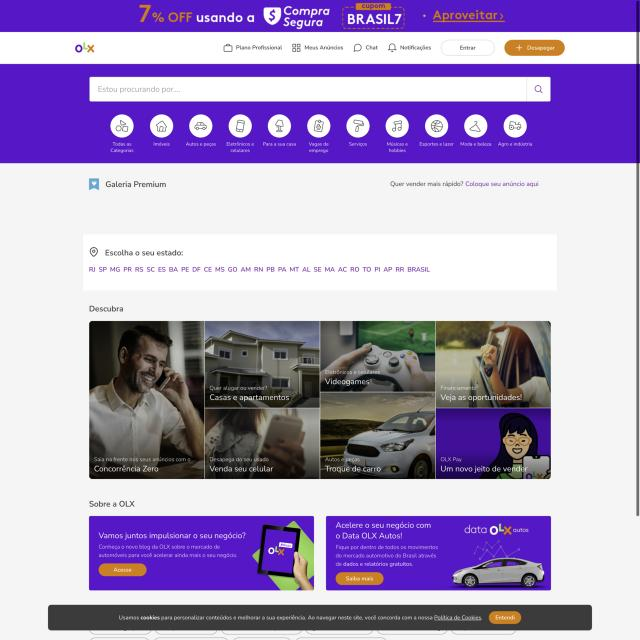input: (89, 76, 552, 104)
logo: (73, 38, 97, 56)
navigation: (102, 108, 538, 158), (218, 36, 434, 60)
